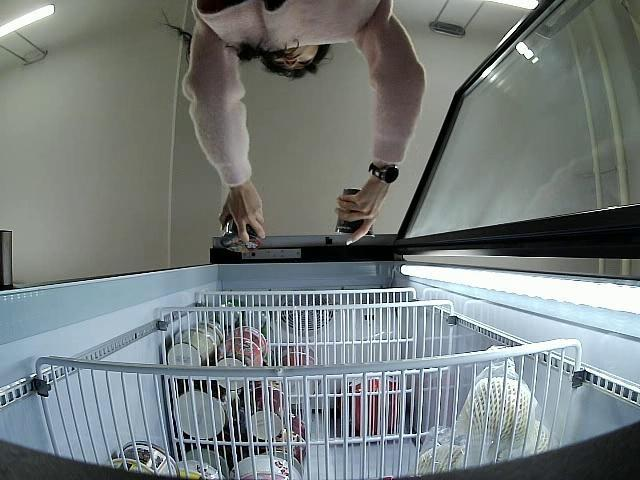08_buldak_S: (336, 184, 375, 237), (220, 218, 262, 256)
